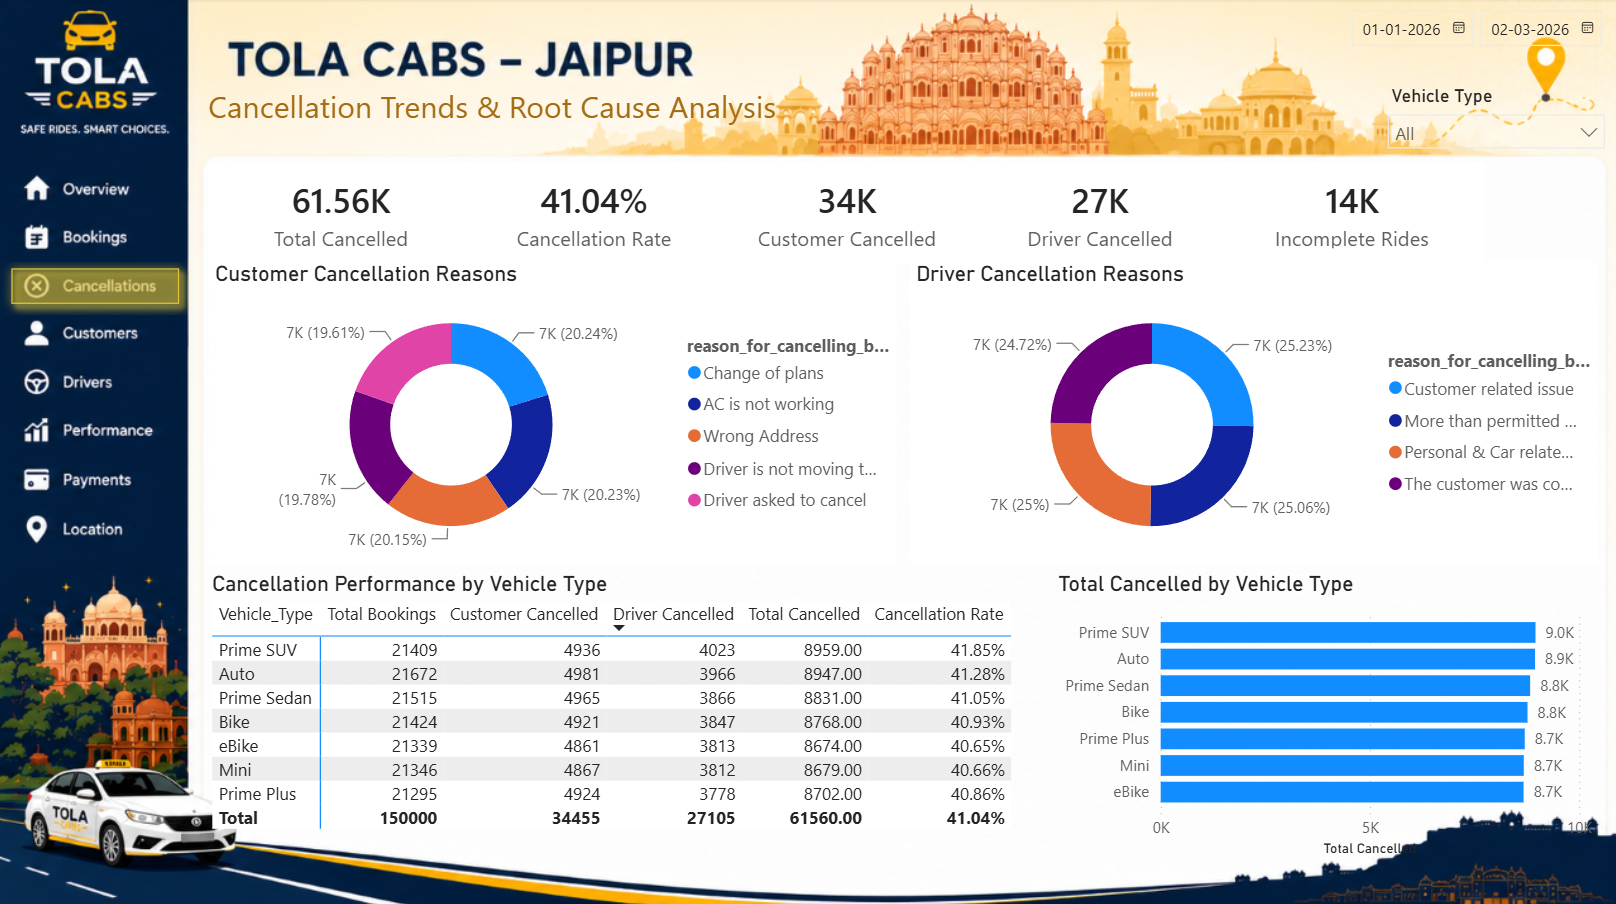

What the dashboard file says about the page in this screenshot:
{"tool":"powerbi","page":{"name":"03_Cancellations","canvas":[1280,720],"ordinal":2},"visuals":[{"type":"shape","box":[0,204.8,150.7,46.1],"z":0},{"type":"donutChart","title":"Customer Cancellation Reasons","fields":{"Category":["tola bookings.reason_for_cancelling_by_Customer"],"Y":["Calendar.Customer Cancelled"]},"box":[165,208,544,240],"z":1000},{"type":"donutChart","title":"Driver Cancellation Reasons","fields":{"Category":["tola bookings.reason_for_cancelling_by_Driver"],"Y":["Calendar.Driver Cancelled"]},"box":[720,208,544,240],"z":2000},{"type":"pivotTable","title":"Cancellation Performance by Vehicle Type","fields":{"Rows":["tola bookings.Vehicle_Type"],"Values":["Calendar.Total Bookings","Calendar.Customer Cancelled","Calendar.Driver Cancelled","_Measures.Total Cancelled","Calendar.Cancellation Rate"]},"box":[163,453,645,230],"z":3000},{"type":"actionButton","box":[0,170.7,149.8,39.5],"z":4000},{"type":"actionButton","box":[0,401.1,150.6,42.9],"z":5000},{"type":"actionButton","box":[1.2,365.9,151,39.5],"z":6000},{"type":"actionButton","box":[1.2,326.4,149.8,39.5],"z":7000},{"type":"actionButton","box":[0,286.9,149.8,39.5],"z":8000},{"type":"actionButton","box":[1.2,247.4,149.8,39.5],"z":9000},{"type":"actionButton","box":[2.3,126.6,149.8,39.5],"z":10000},{"type":"cardVisual","fields":{"Data":["_Measures.Total Cancelled"]},"box":[160,125,220,90],"z":11000},{"type":"cardVisual","fields":{"Data":["_Measures.Cancellation Rate"]},"box":[360,125,220,90],"z":12000},{"type":"cardVisual","fields":{"Data":["_Measures.Customer Cancelled"]},"box":[560,125,220,90],"z":13000},{"type":"cardVisual","fields":{"Data":["_Measures.Driver Cancelled"]},"box":[760,125,220,90],"z":14000},{"type":"cardVisual","fields":{"Data":["_Measures.Incomplete Rides"]},"box":[960,125,220,90],"z":15000},{"type":"clusteredBarChart","title":"Total Cancelled by Vehicle Type","fields":{"Category":["tola bookings.Vehicle_Type"],"Y":["_Measures.Total Cancelled"]},"box":[832,453,432,230],"z":16000},{"type":"slicer","fields":{"Values":["tola bookings.Vehicle_Type"]},"box":[1088,64,192,64],"z":17000},{"type":"slicer","fields":{"Values":["Calendar.Date"]},"box":[1056,0,219.5,69.7],"z":18000},{"type":"textbox","box":[160,64,472,48],"z":18001}]}

Visuals, with their boxes on the page's 1280x720 design canvas (x1, y1, x2, y2). These are canvas units, not pixel positions in the 1616x904 screenshot, which may show the page scaled, cropped or inside an application window:
shape: bbox=[0, 205, 151, 251]
"Customer Cancellation Reasons" donutChart: bbox=[165, 208, 709, 448]
"Driver Cancellation Reasons" donutChart: bbox=[720, 208, 1264, 448]
"Cancellation Performance by Vehicle Type" pivotTable: bbox=[163, 453, 808, 683]
actionButton: bbox=[0, 171, 150, 210]
actionButton: bbox=[0, 401, 151, 444]
actionButton: bbox=[1, 366, 152, 405]
actionButton: bbox=[1, 326, 151, 366]
actionButton: bbox=[0, 287, 150, 326]
actionButton: bbox=[1, 247, 151, 287]
actionButton: bbox=[2, 127, 152, 166]
cardVisual - _Measures.Total Cancelled: bbox=[160, 125, 380, 215]
cardVisual - _Measures.Cancellation Rate: bbox=[360, 125, 580, 215]
cardVisual - _Measures.Customer Cancelled: bbox=[560, 125, 780, 215]
cardVisual - _Measures.Driver Cancelled: bbox=[760, 125, 980, 215]
cardVisual - _Measures.Incomplete Rides: bbox=[960, 125, 1180, 215]
"Total Cancelled by Vehicle Type" clusteredBarChart: bbox=[832, 453, 1264, 683]
slicer - tola bookings.Vehicle_Type: bbox=[1088, 64, 1280, 128]
slicer - Calendar.Date: bbox=[1056, 0, 1276, 70]
textbox: bbox=[160, 64, 632, 112]
